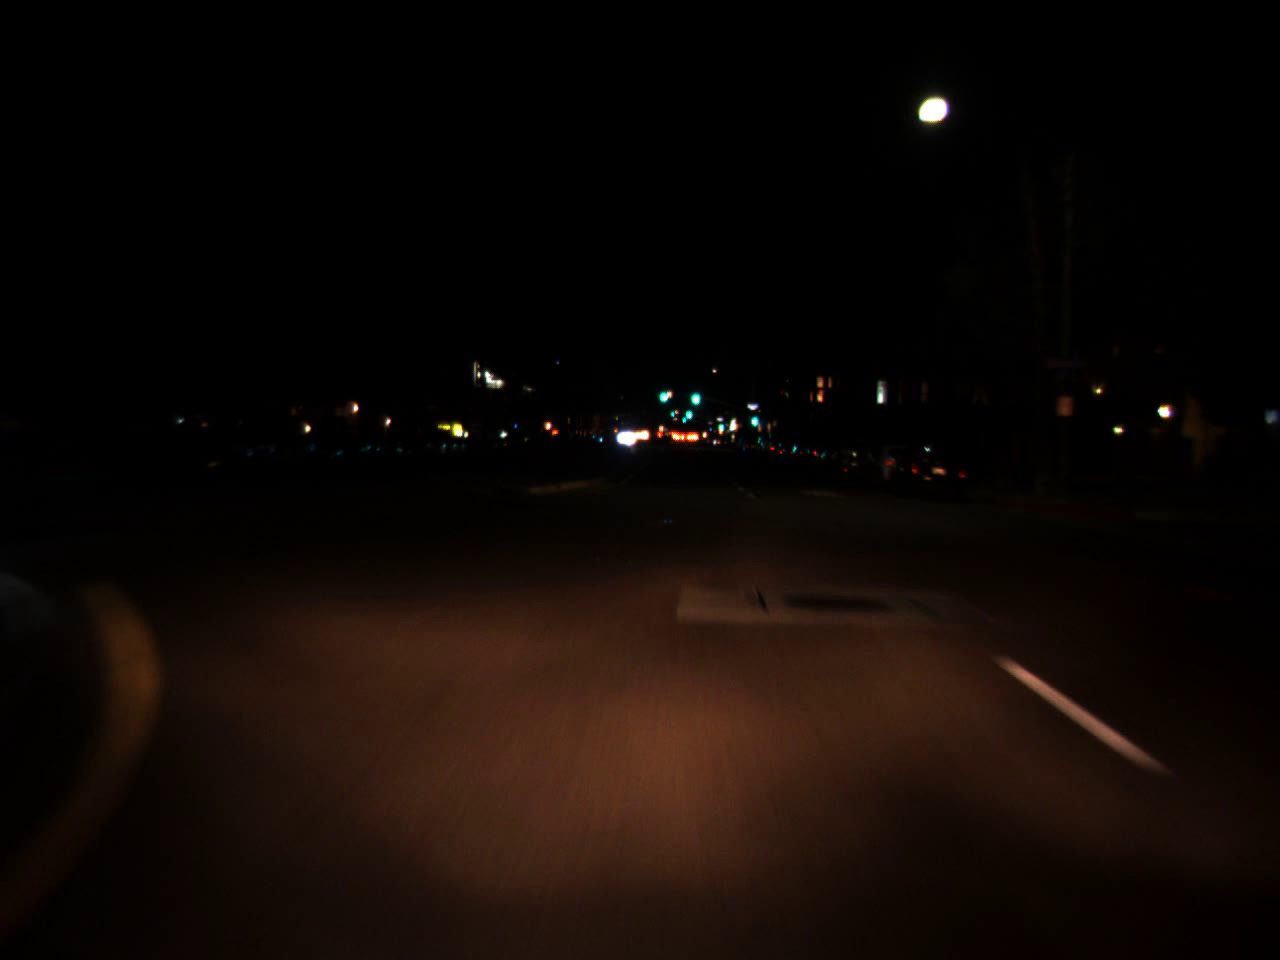go: (688, 379, 702, 409), (656, 379, 668, 406), (714, 411, 726, 435), (749, 406, 759, 430), (683, 400, 693, 421), (680, 412, 687, 424)
